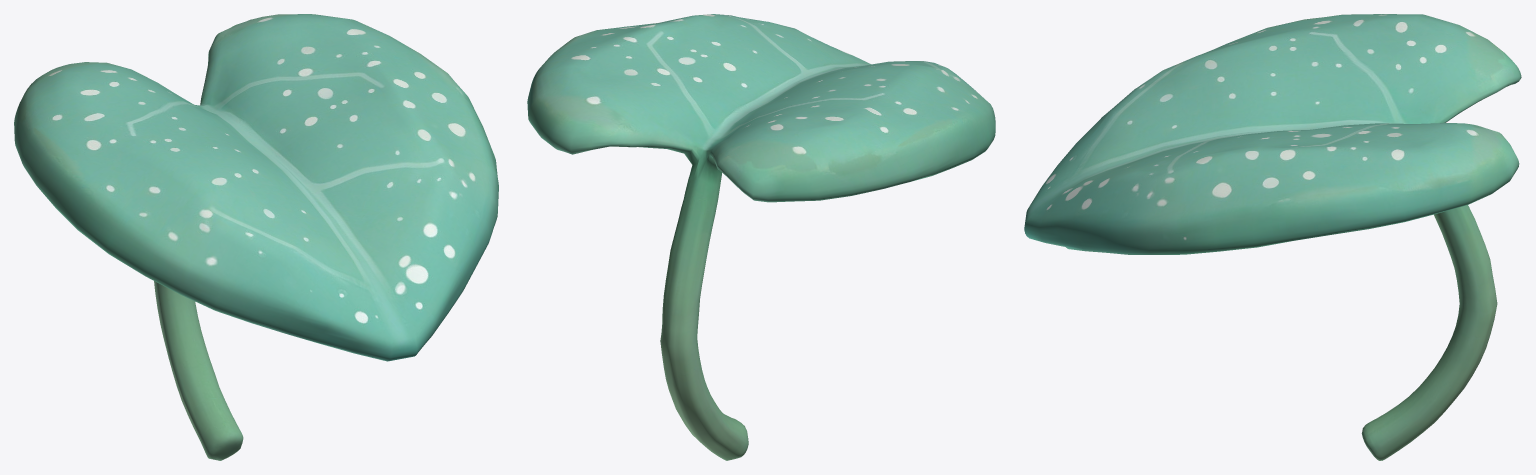
File: pothos_mint_dot.glb
3 views of the same model, side by side, from view 1: azimuth 30°, elevation 25°; view 2: azimuth 150°, elevation 25°; view 3: azimuth 270°, elevation 25° (orthographic). The views are drawn at different scales.
Bounding box in the file's own units: 1.81 × 1.68 × 2.
Materials: 1 (1 with a texture image).
